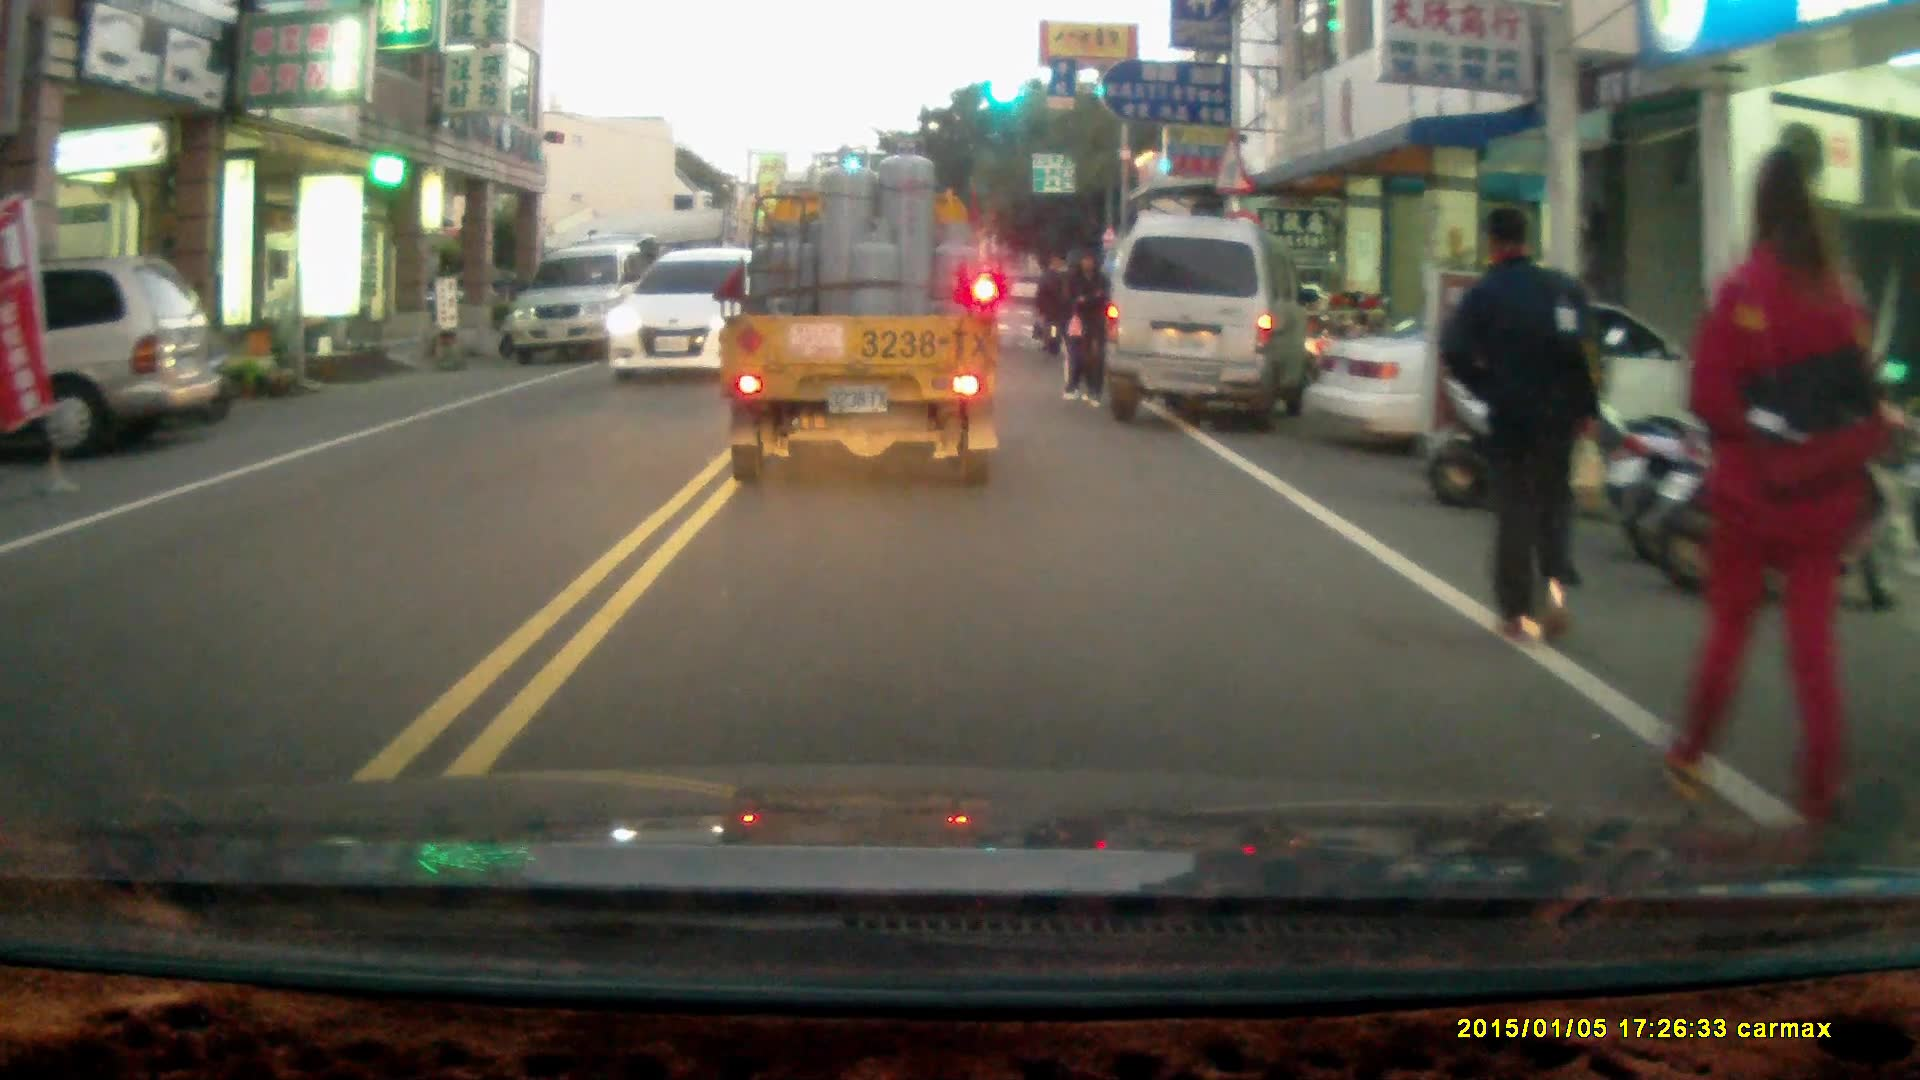pedestrian: (1661, 141, 1885, 848), (1440, 205, 1601, 646), (1063, 245, 1107, 403), (1033, 248, 1078, 357)
vehicle: (720, 193, 1000, 485), (1312, 299, 1762, 468), (1105, 214, 1315, 430), (1, 254, 224, 456), (602, 246, 766, 382), (502, 246, 665, 365)
